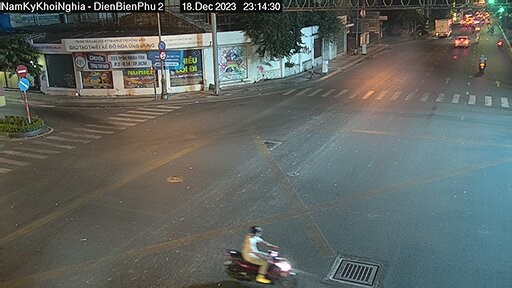motorbike: (221, 224, 313, 287), (471, 52, 496, 77)
